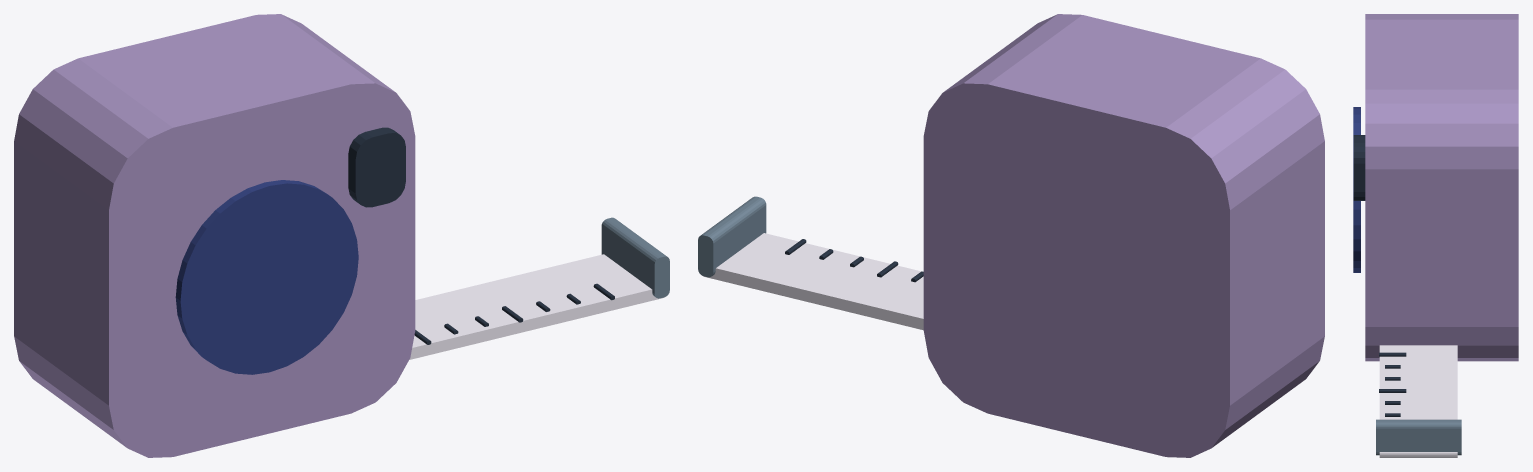
The model's file is taperule.glb.
3 views of the same model, side by side, from view 1: azimuth 30°, elevation 25°; view 2: azimuth 150°, elevation 25°; view 3: azimuth 270°, elevation 25° (orthographic). The views are drawn at different scales.
Visible parts, largest first — view 1: housing, case inset, blade, lock button, end hook; view 2: housing, blade, end hook; view 3: housing, blade, end hook, case inset, lock button.
Boxes of the visible parts, <box> form: housing: <box>14,14,415,457</box>; case inset: <box>175,180,358,374</box>; blade: <box>409,254,664,359</box>; lock button: <box>348,127,405,207</box>; end hook: <box>601,217,669,298</box>; housing: <box>923,14,1324,457</box>; blade: <box>703,233,923,330</box>; end hook: <box>698,196,766,277</box>; housing: <box>1365,14,1518,361</box>; blade: <box>1379,345,1457,457</box>; end hook: <box>1376,419,1461,455</box>; case inset: <box>1353,107,1360,272</box>; lock button: <box>1353,135,1365,200</box>.
Bounding box in the file's own units: 2.04 × 1.13 × 0.637.
